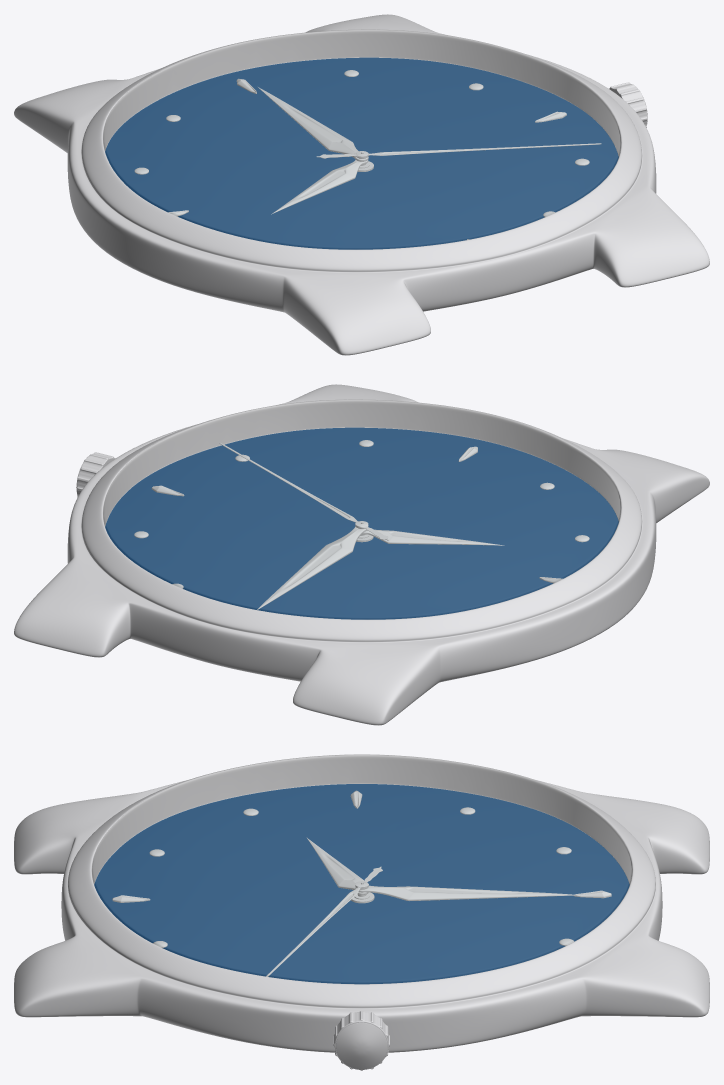
Rendered from watch.glb.
3 views of the same model, one above another, from view 1: azimuth 30°, elevation 25°; view 2: azimuth 150°, elevation 25°; view 3: azimuth 270°, elevation 25° (orthographic). The views are drawn at different scales.
Parts seen in each view (by area): view 1: watch_Base, Glass, Cylinder.003, Cylinder.001, Cylinder.002, Dial; view 2: watch_Base, Glass, Cylinder.003, Cylinder.001, Cylinder.002, Dial; view 3: watch_Base, Glass, Circle.002, Cylinder.003, Cylinder.001, Cylinder.002, Cylinder.004, Dial.
Part boxes in pixels (x1=…): watch_Base: x1=14, y1=14, x2=709, y2=355; Glass: x1=104, y1=29, x2=619, y2=249; Cylinder.003: x1=258, y1=87, x2=368, y2=161; Cylinder.001: x1=271, y1=160, x2=368, y2=214; Cylinder.002: x1=316, y1=143, x2=601, y2=158; Dial: x1=608, y1=82, x2=647, y2=127; watch_Base: x1=14, y1=384, x2=709, y2=725; Glass: x1=104, y1=399, x2=619, y2=619; Cylinder.003: x1=257, y1=527, x2=367, y2=609; Cylinder.001: x1=362, y1=529, x2=504, y2=545; Cylinder.002: x1=219, y1=442, x2=388, y2=540; Dial: x1=77, y1=452, x2=115, y2=497; watch_Base: x1=14, y1=754, x2=709, y2=1052; Glass: x1=92, y1=754, x2=631, y2=983; Circle.002: x1=334, y1=1012, x2=388, y2=1069; Cylinder.003: x1=355, y1=885, x2=580, y2=900; Cylinder.001: x1=306, y1=837, x2=368, y2=894; Cylinder.002: x1=266, y1=866, x2=382, y2=976; Cylinder.004: x1=112, y1=790, x2=611, y2=902; Dial: x1=333, y1=1011, x2=389, y2=1070.
Bounding box in the file's own units: 2.03 × 0.3167 × 2.19.
